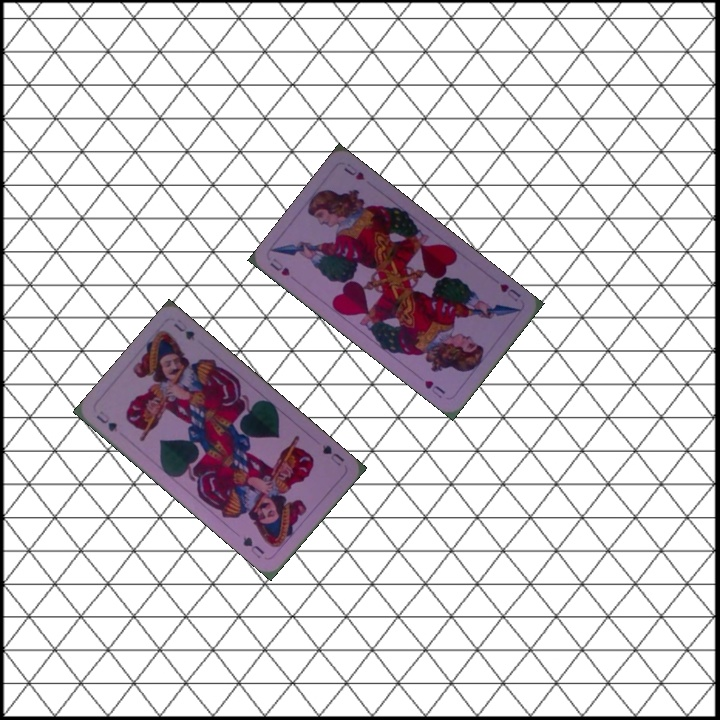GU: (318, 441, 347, 469), (92, 407, 120, 435)
HU: (495, 280, 523, 304), (266, 254, 292, 279)
